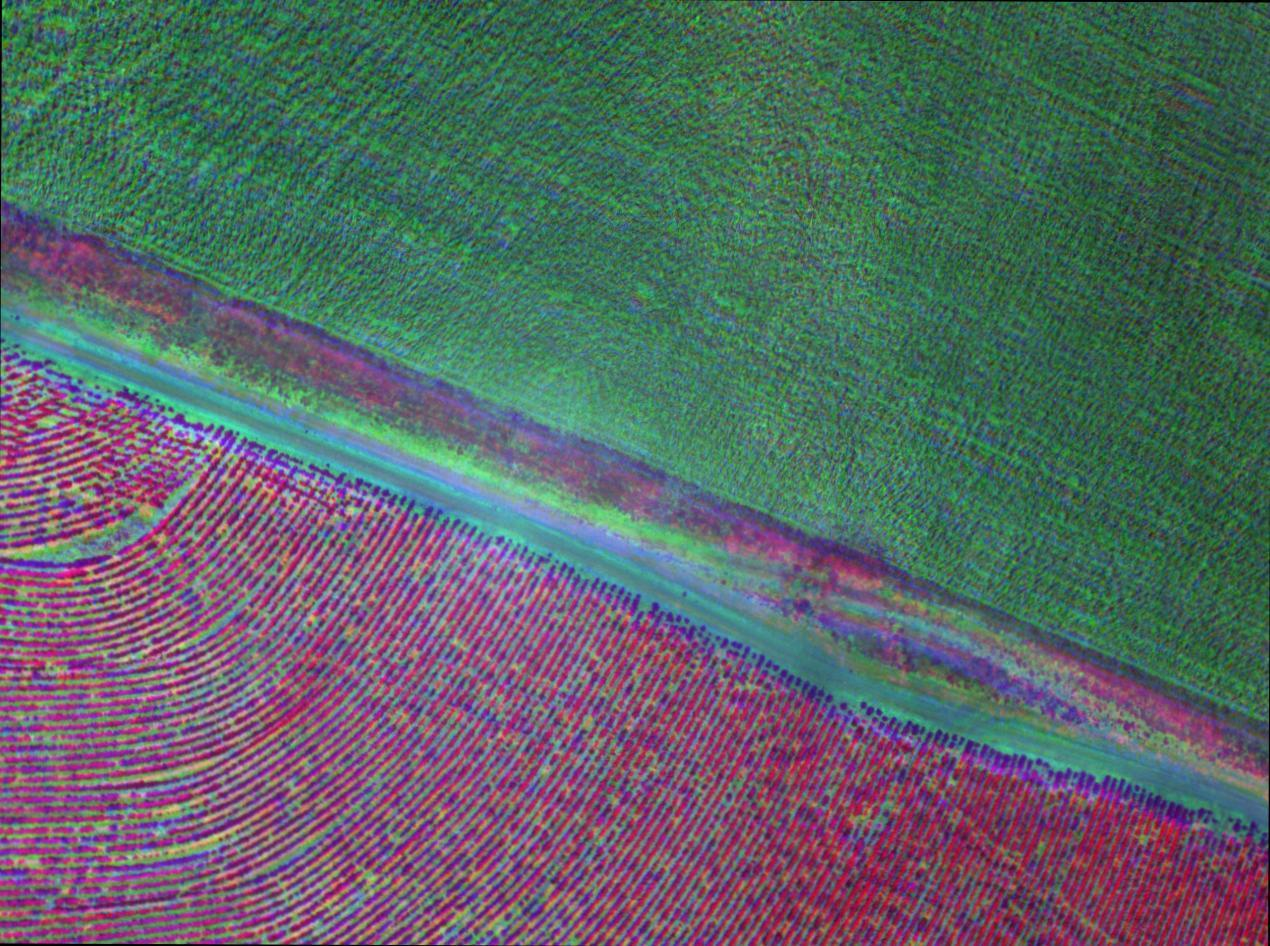dc: (0, 448, 207, 588), (83, 758, 196, 865), (416, 878, 574, 946), (253, 803, 365, 898), (211, 570, 295, 654)
